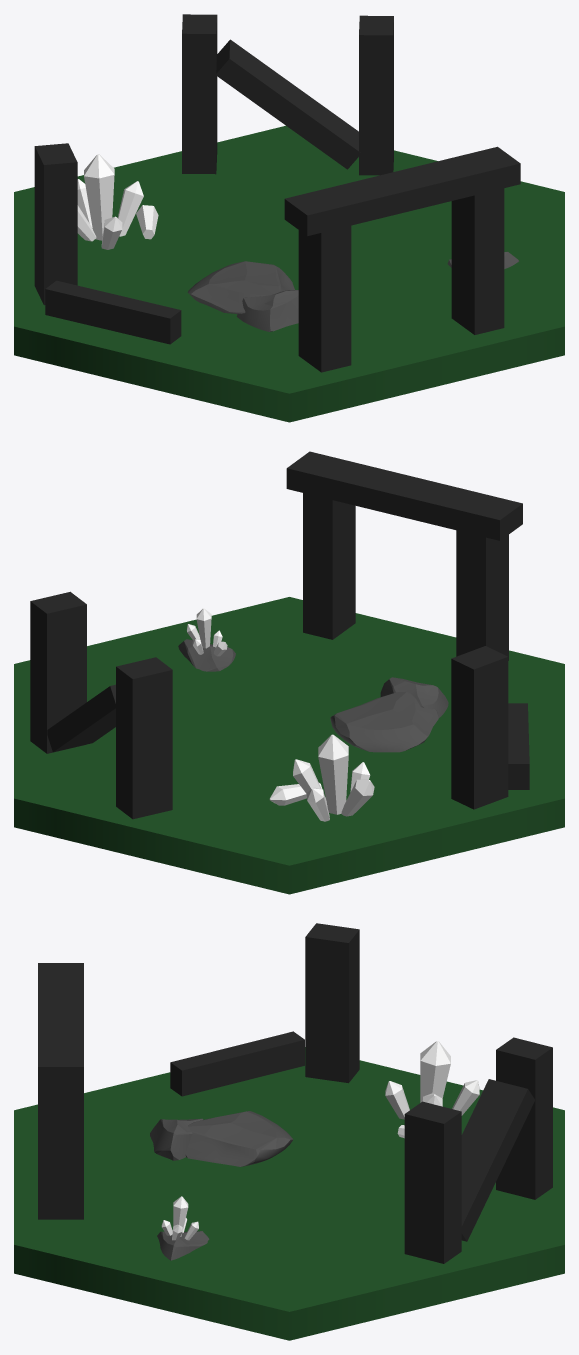
The model's file is Monster_Cave.FBX.
3 views of the same model, one above another, from view 1: azimuth 30°, elevation 25°; view 2: azimuth 150°, elevation 25°; view 3: azimuth 270°, elevation 25° (orthographic).
Visible parts, largest first — view 1: Ground; view 2: Ground; view 3: Ground.
Part boxes in pixels (x1,y1,x2,y2): Ground: (14,14,564,422); Ground: (14,451,564,894); Ground: (14,923,564,1340).
Size of the model in its own units: 39.37 by 14.27 by 34.1.
